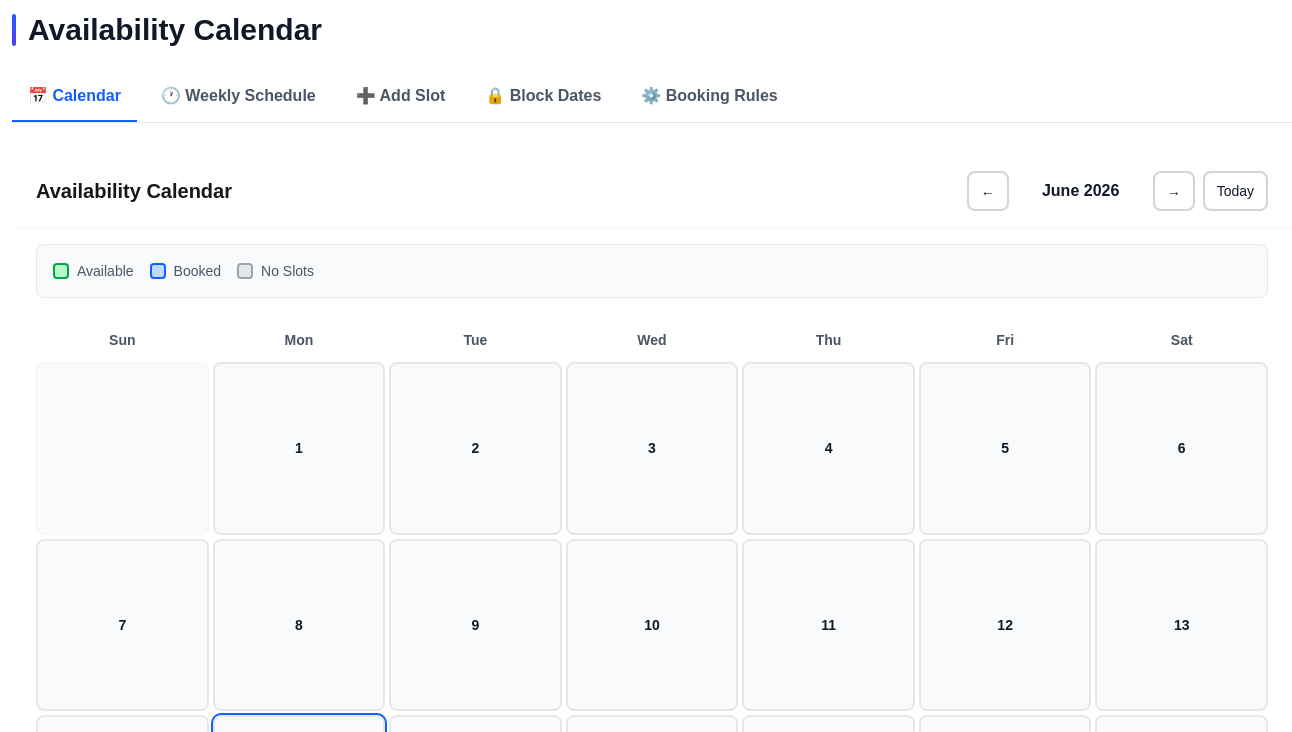
Scenario: AvailabilityPage Integration Tests › complete trainer setup workflow
The image size is (1292, 732).
Expected: the 1st heading "Availability Calendar" is shown, [28,12,322,48]
// Navigate to weekly schedule
Click the button "🕐 Weekly Schedule".
click(238, 97)  # box [145,72,332,122]
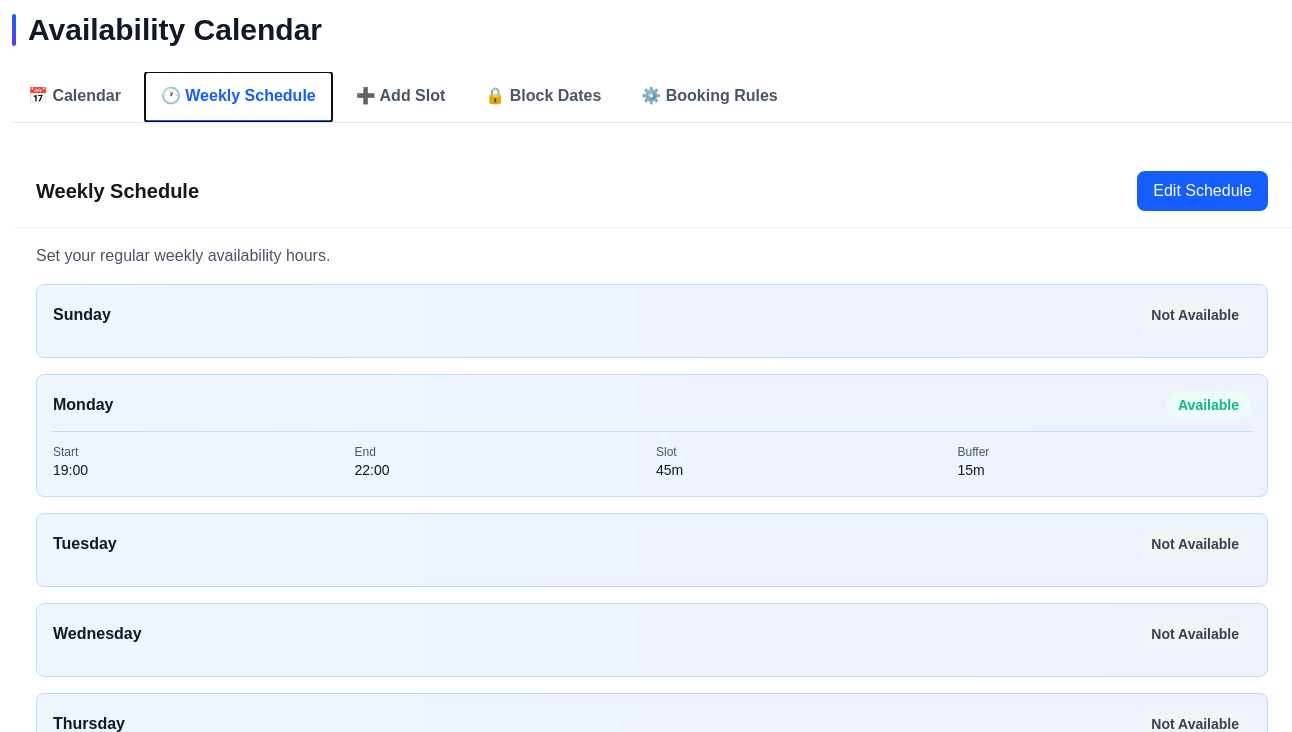
Result: the text "Set your regular weekly availability hours." is shown at [36,247,330,264]
Result: the heading "Monday" is shown at [53,393,114,417]
// Navigate to add slot
Click the button "➕ Add Slot".
click(400, 97)  # box [340,72,461,122]
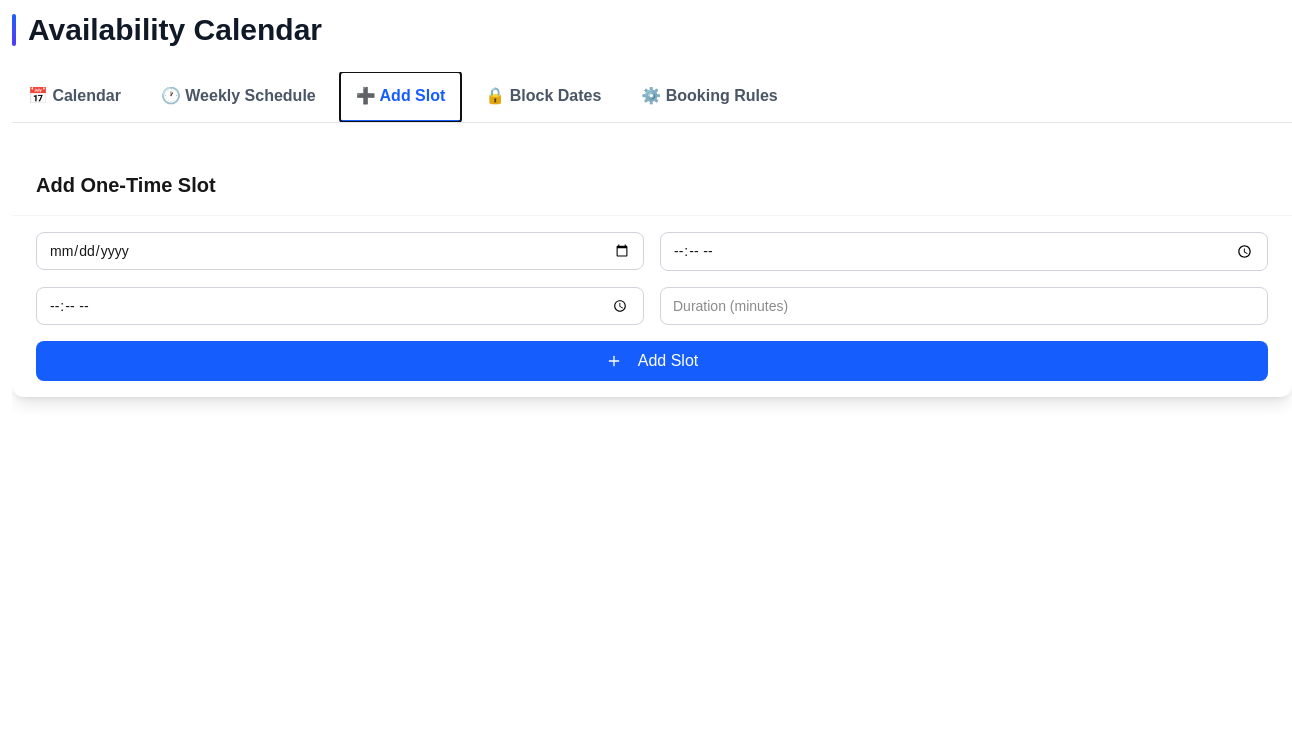
Result: the heading "Add One-Time Slot" is shown at [36,174,216,196]
// Navigate to block dates
Click the button "🔒 Block Dates".
click(543, 97)  # box [469,72,617,122]
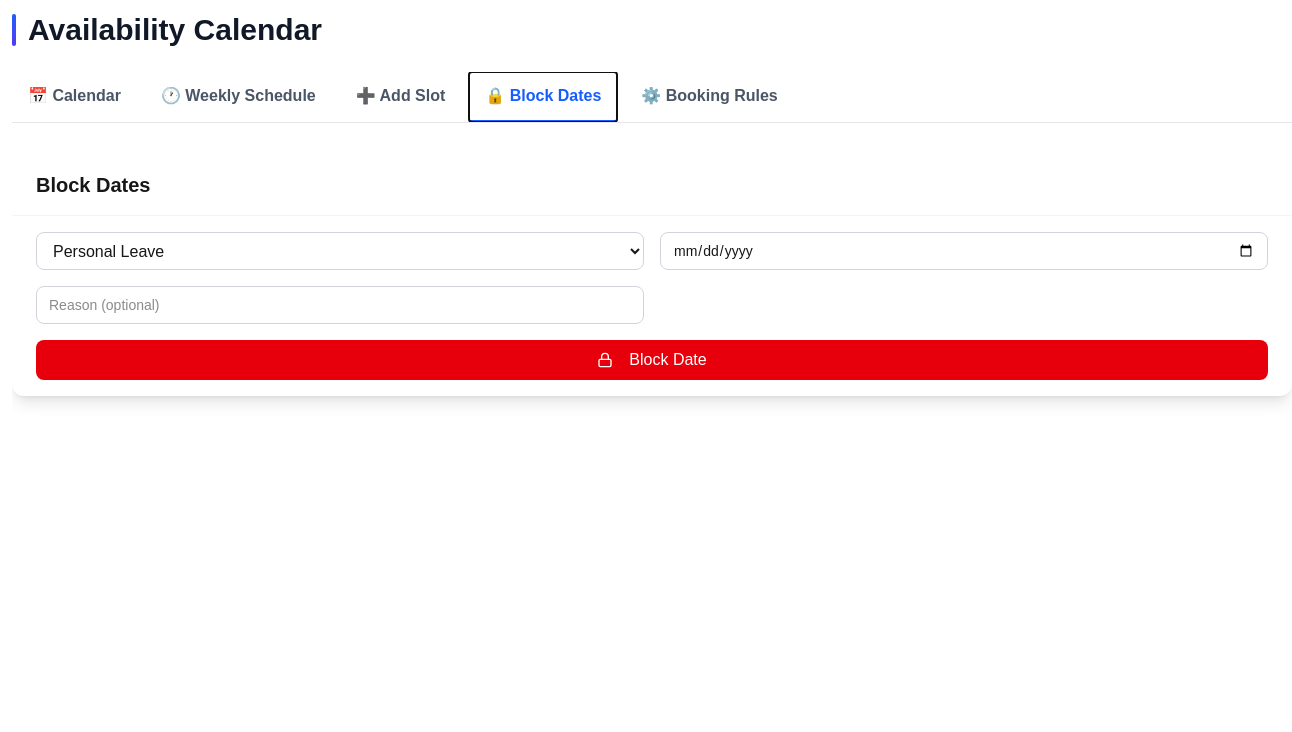
Result: the heading "Block Dates" is shown at [36,174,150,196]
Result: the button "Block Date" is shown at [36,340,1268,380]
// Navigate to booking rules
Click the button "⚙️ Booking Rules".
click(710, 97)  # box [625,72,794,122]
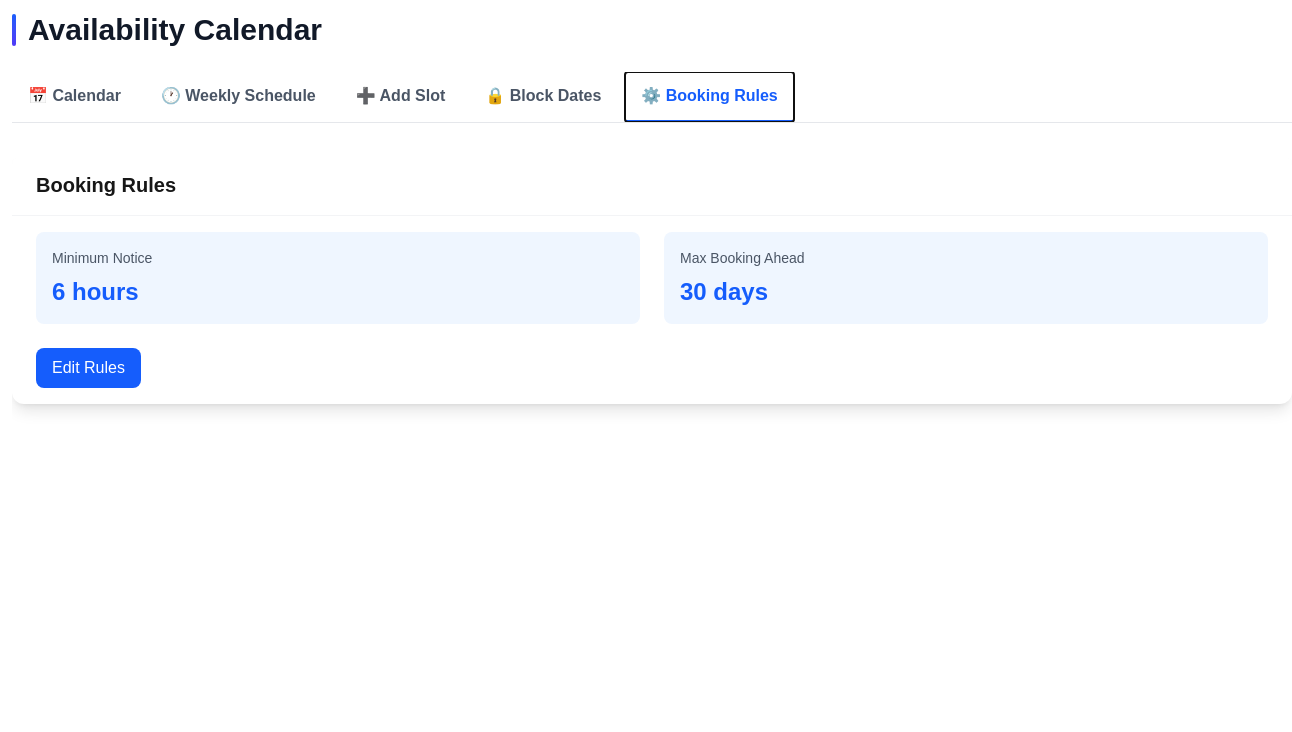
Result: the heading "Booking Rules" is shown at [36,174,176,196]
